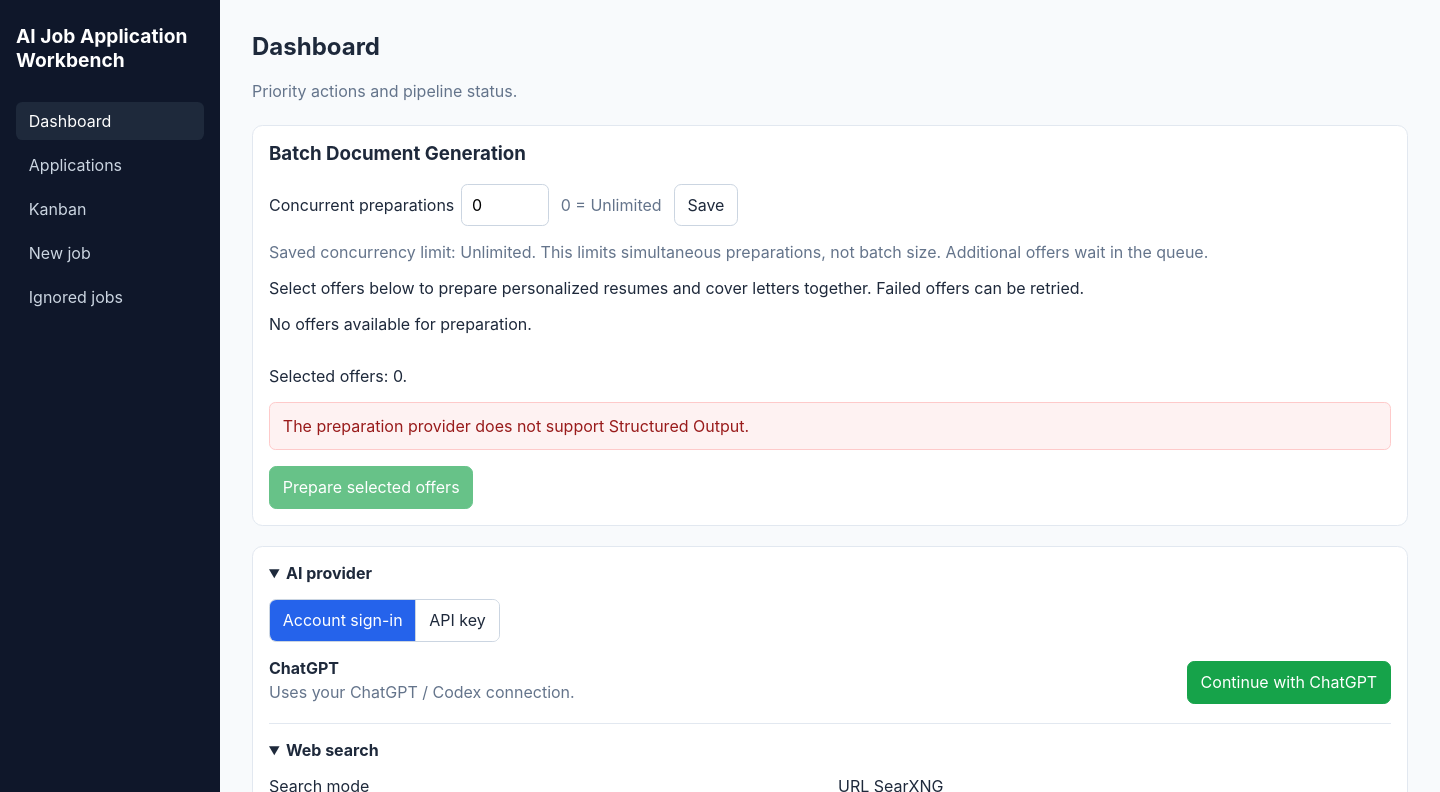
Test case: routing SPA › affiche le panneau fournisseur sans exposer de clé
Click the button "API key" at point(457, 620), box top-left (415, 600), bottom-right (498, 641)
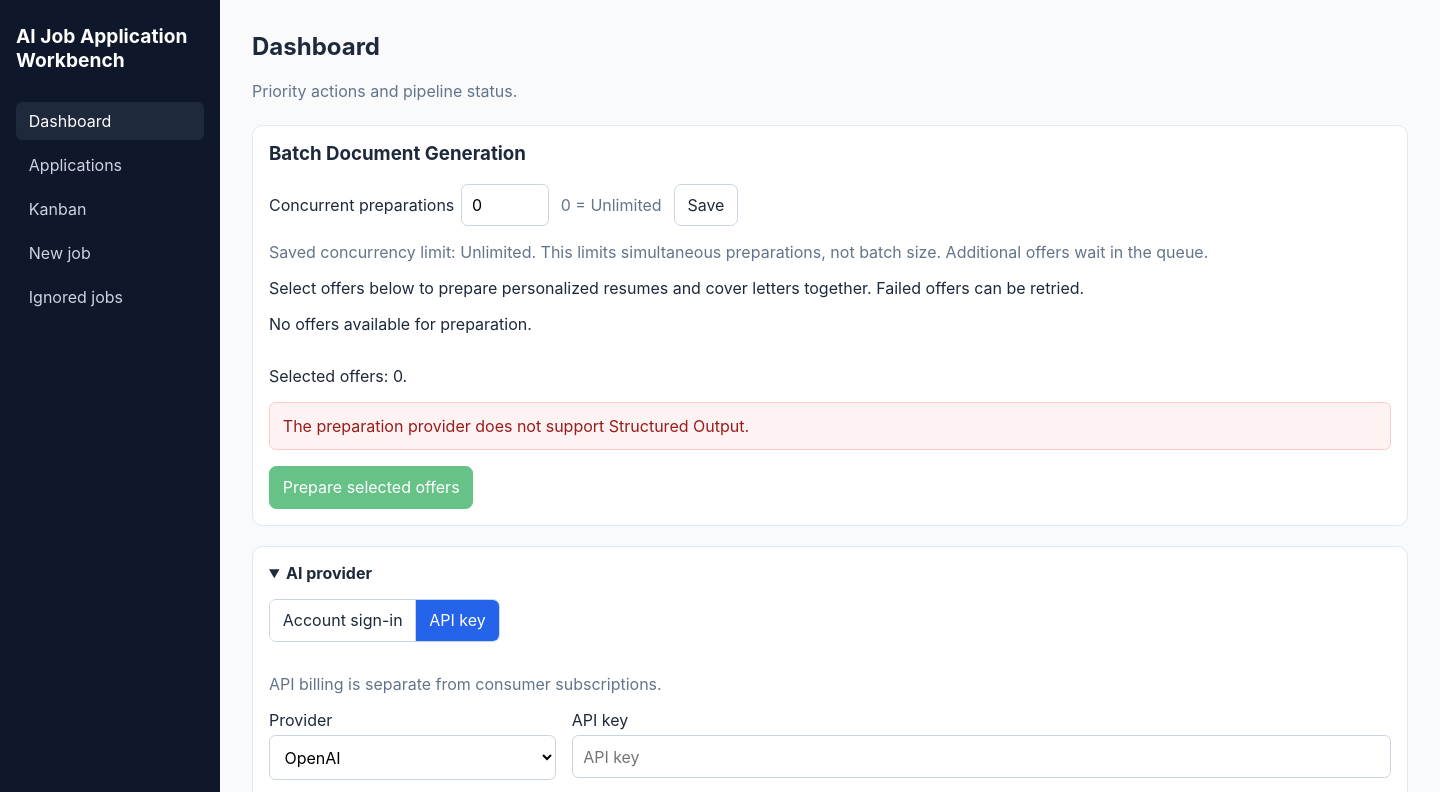
Result: the password field with placeholder "API key" is shown at top-left (572, 735), bottom-right (1391, 778)
Click the button "Account sign-in" at point(343, 620), box top-left (270, 600), bottom-right (415, 641)
(page scrolled)
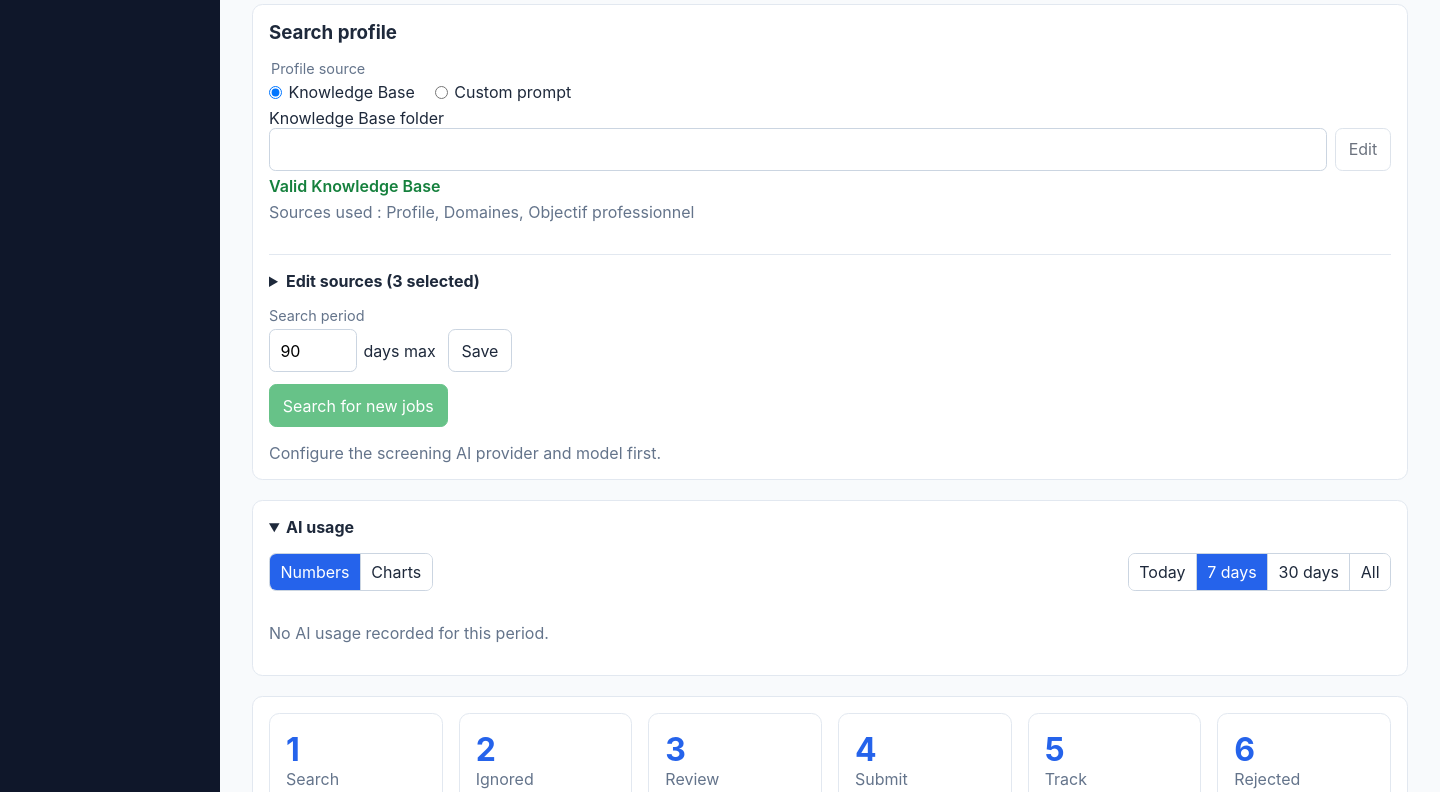
Expected: the button "Search for new jobs" is disabled, top-left (269, 384), bottom-right (448, 427)
Result: the password field is gone
